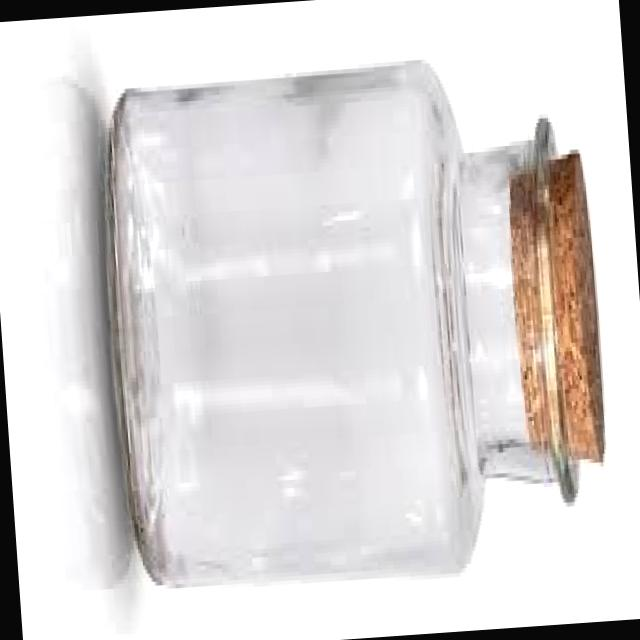bottle: (108, 64, 603, 584)
